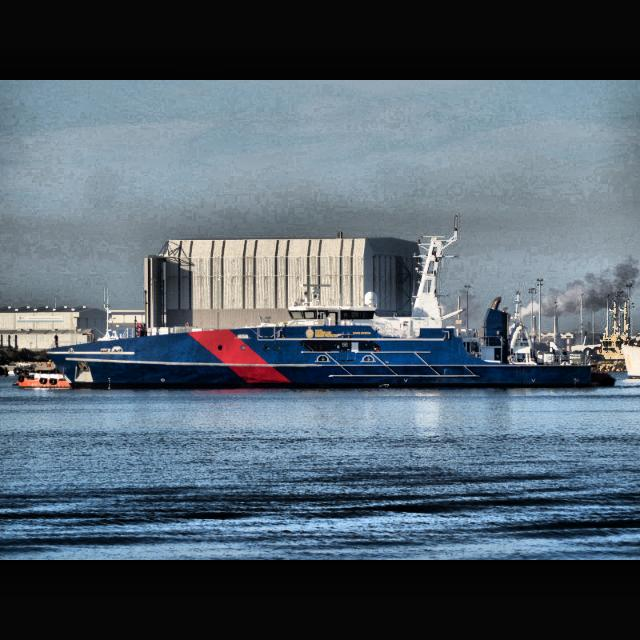patrol_vessel: (45, 285, 621, 391)
